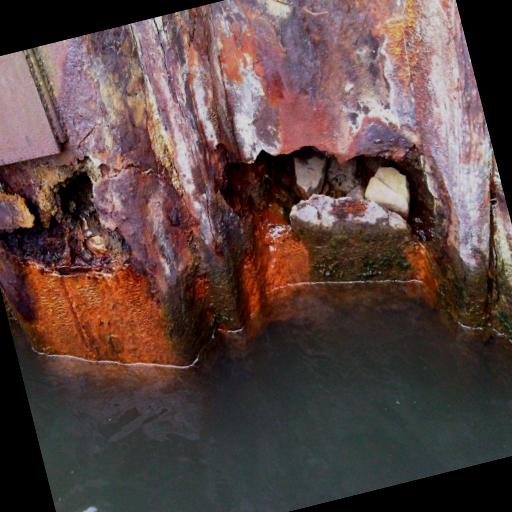segmentation: (0, 0, 512, 358)
